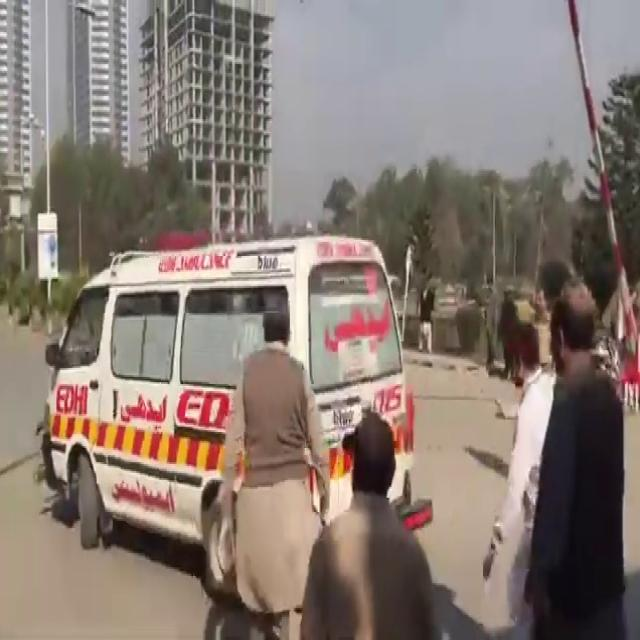ambulance: (37, 156, 437, 578)
police: (1, 0, 458, 555), (105, 154, 423, 640), (293, 0, 332, 126)
